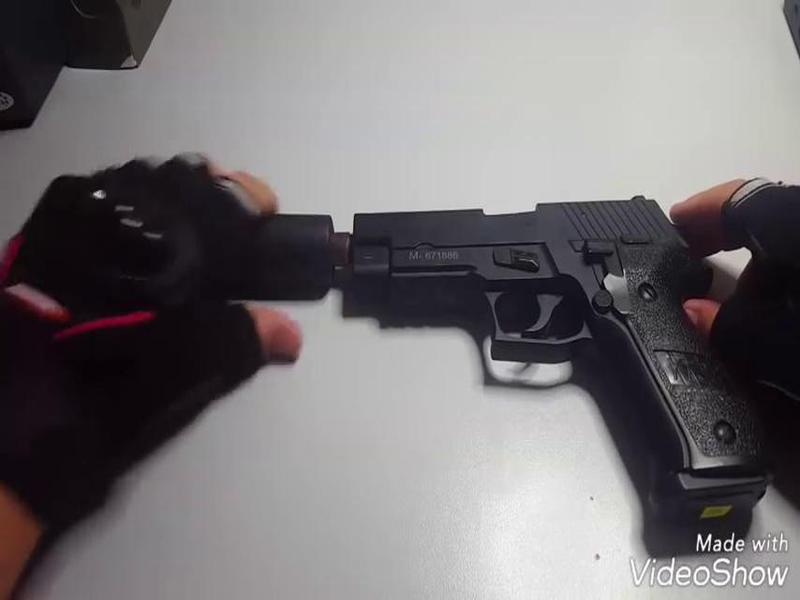Pistola: (343, 185, 771, 528)
